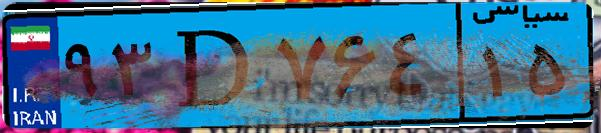1: (475, 38, 525, 113)
3: (110, 28, 158, 98)
4: (385, 28, 445, 110)
5: (525, 38, 570, 115)
6: (330, 28, 385, 110)
7: (270, 28, 330, 110)
9: (57, 26, 110, 100)
D: (158, 12, 270, 120)
